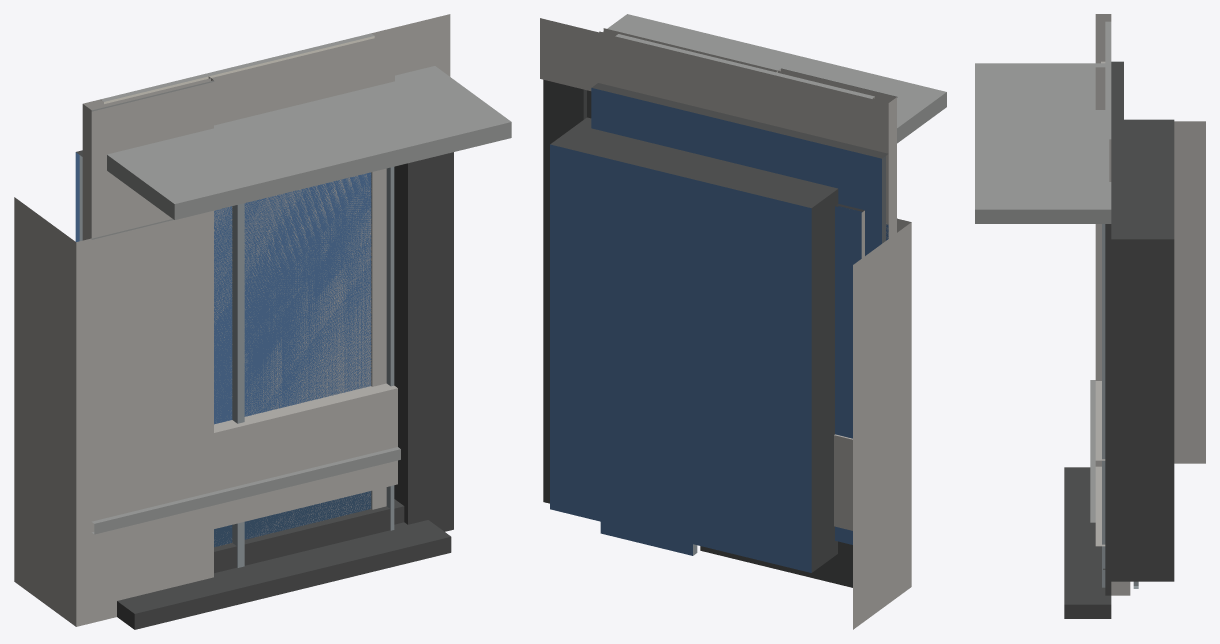
Rendered from curtain.glb.
The picture shows the model from 3 angles, left to right: view 1: azimuth 30°, elevation 25°; view 2: azimuth 150°, elevation 25°; view 3: azimuth 270°, elevation 25°; orthographic projection. The views are drawn at different scales.
Parts seen in each view (by area): view 1: curtain_entrance, curtain_corner, curtain_bay, curtain_cap, curtain_ground_pier, curtain_lobby, curtain_blank, curtain_pier, curtain_shop; view 2: curtain_entrance, curtain_corner, curtain_lobby, curtain_shop, curtain_cap, curtain_ground_pier; view 3: curtain_entrance, curtain_corner, curtain_cap, curtain_lobby, curtain_ground_pier, curtain_bay, curtain_shop, curtain_pier.
Boxes of the visible parts, bbox=[...] form: curtain_entrance: bbox=[83, 14, 511, 629]; curtain_corner: bbox=[14, 197, 183, 626]; curtain_bay: bbox=[214, 167, 394, 567]; curtain_cap: bbox=[92, 383, 400, 567]; curtain_ground_pier: bbox=[82, 76, 214, 584]; curtain_lobby: bbox=[75, 33, 394, 573]; curtain_blank: bbox=[214, 174, 371, 545]; curtain_pier: bbox=[82, 211, 213, 584]; curtain_shop: bbox=[84, 30, 390, 509]; curtain_entrance: bbox=[540, 14, 946, 572]; curtain_corner: bbox=[853, 218, 911, 629]; curtain_lobby: bbox=[591, 28, 893, 255]; curtain_shop: bbox=[599, 31, 889, 587]; curtain_cap: bbox=[834, 434, 852, 530]; curtain_ground_pier: bbox=[776, 68, 897, 224]; curtain_entrance: bbox=[975, 63, 1174, 618]; curtain_corner: bbox=[1174, 121, 1205, 463]; curtain_cap: bbox=[1090, 380, 1105, 587]; curtain_lobby: bbox=[1101, 61, 1123, 569]; curtain_ground_pier: bbox=[1095, 14, 1111, 466]; curtain_bay: bbox=[1102, 224, 1105, 587]; curtain_shop: bbox=[1105, 21, 1138, 595]; curtain_pier: bbox=[1095, 224, 1101, 466].
Size of what is drawn, in the model's own units: 3.75 by 4.8 by 2.2.
